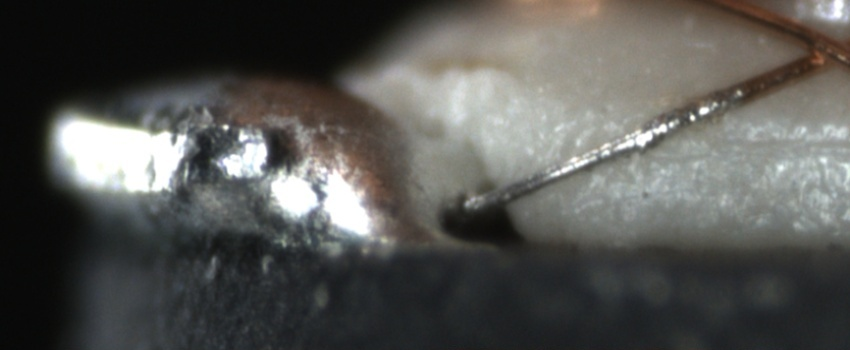CL: (790, 22, 848, 76)
DL: (699, 109, 850, 172)
TS: (460, 89, 743, 215)
TTCW: (450, 79, 755, 219)
